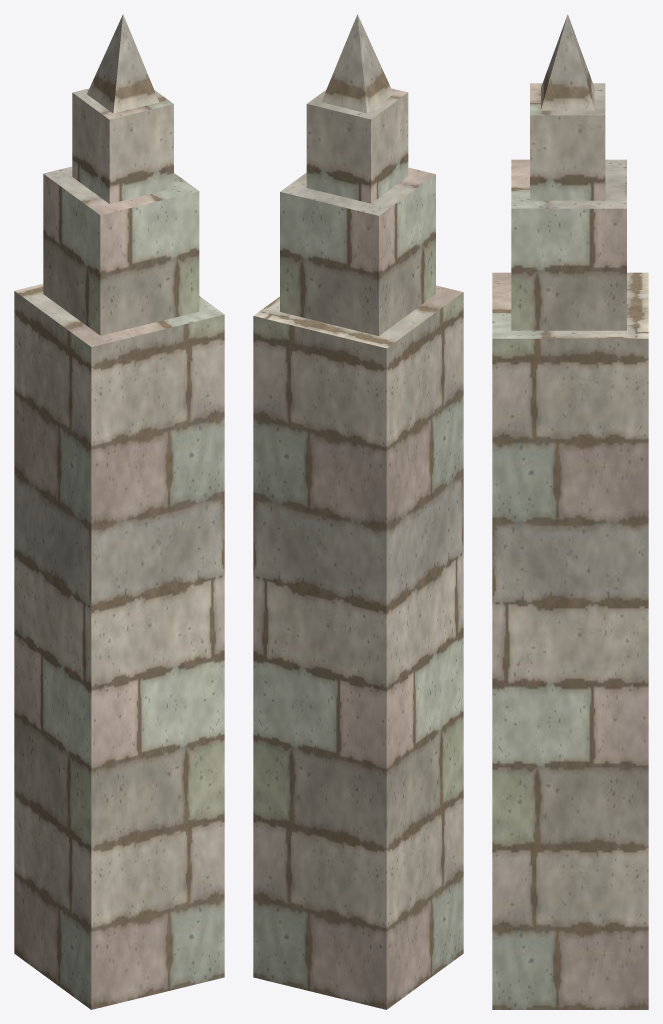
The model's file is corner_crown.glb.
The picture shows the model from 3 angles, left to right: view 1: azimuth 30°, elevation 25°; view 2: azimuth 150°, elevation 25°; view 3: azimuth 270°, elevation 25°; orthographic projection.
Parts seen in each view (by area): view 1: corner_crown_stone; view 2: corner_crown_stone; view 3: corner_crown_stone.
Part boxes in pixels (x1,y1,x2,y2): corner_crown_stone: (14, 14, 224, 1009); corner_crown_stone: (253, 14, 463, 1009); corner_crown_stone: (492, 14, 648, 1009).
Size of the model in its own units: 0.58 by 3.95 by 0.58.
1 material, 1 textured.
